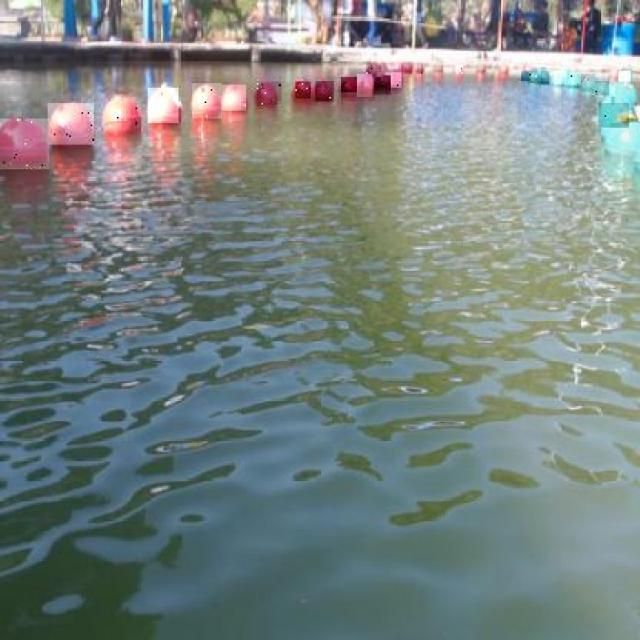green_ball: (603, 118, 640, 156), (608, 82, 639, 110), (600, 95, 634, 119), (598, 104, 630, 128), (582, 75, 603, 96), (592, 79, 610, 102), (566, 74, 583, 93), (535, 68, 550, 88), (550, 72, 564, 90), (522, 72, 535, 85)
red_ball: (0, 118, 50, 169), (48, 103, 93, 144), (102, 93, 140, 135), (148, 87, 182, 124), (192, 85, 220, 119), (222, 85, 246, 112), (256, 82, 277, 106), (368, 63, 387, 88), (370, 76, 390, 96), (339, 77, 362, 93), (315, 80, 333, 100), (385, 72, 404, 90), (294, 80, 311, 100), (357, 75, 372, 96), (400, 62, 414, 80), (412, 62, 424, 82), (496, 66, 509, 79), (433, 64, 444, 79), (453, 64, 464, 78), (477, 68, 486, 81), (611, 69, 619, 81)
